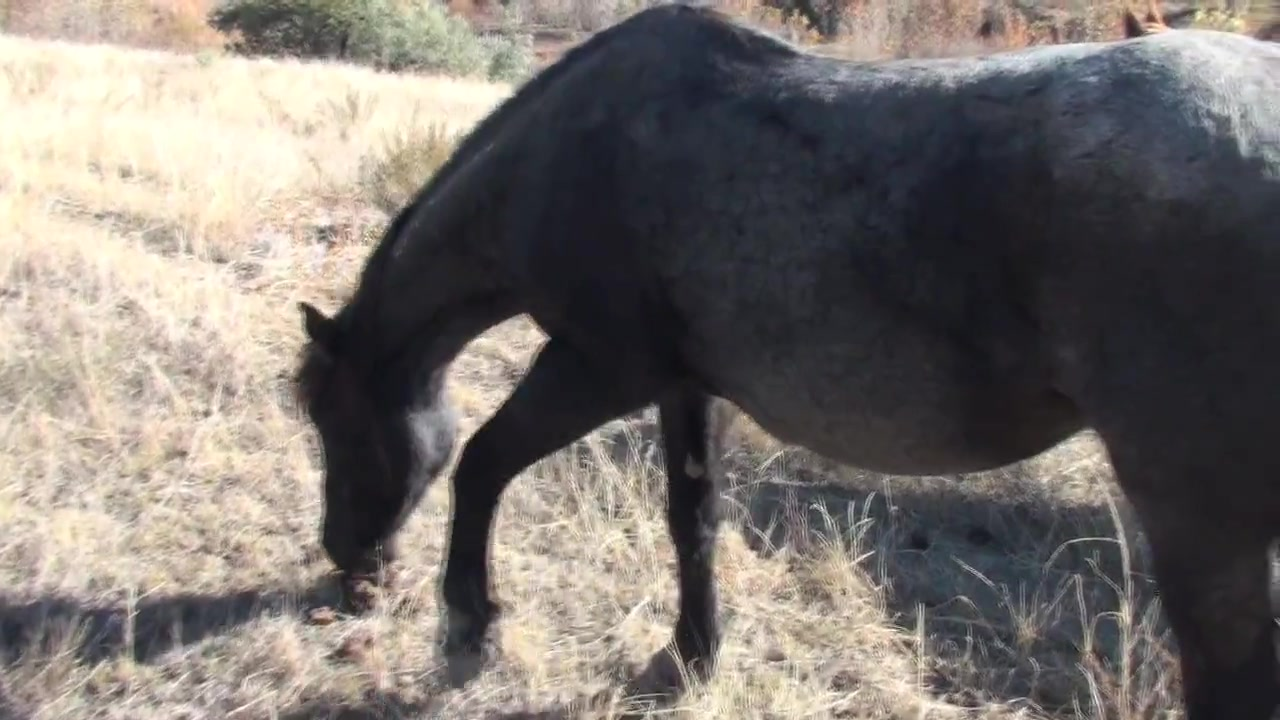horse: (280, 3, 1280, 719)
